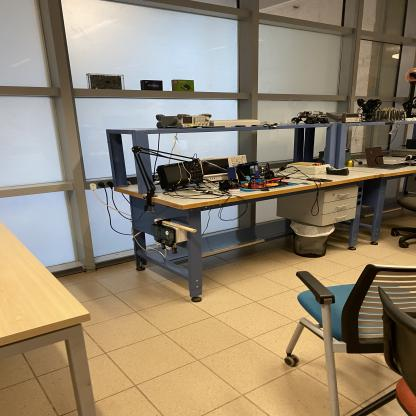Knife: (261, 177, 286, 182)
scissors: (243, 187, 270, 192)
